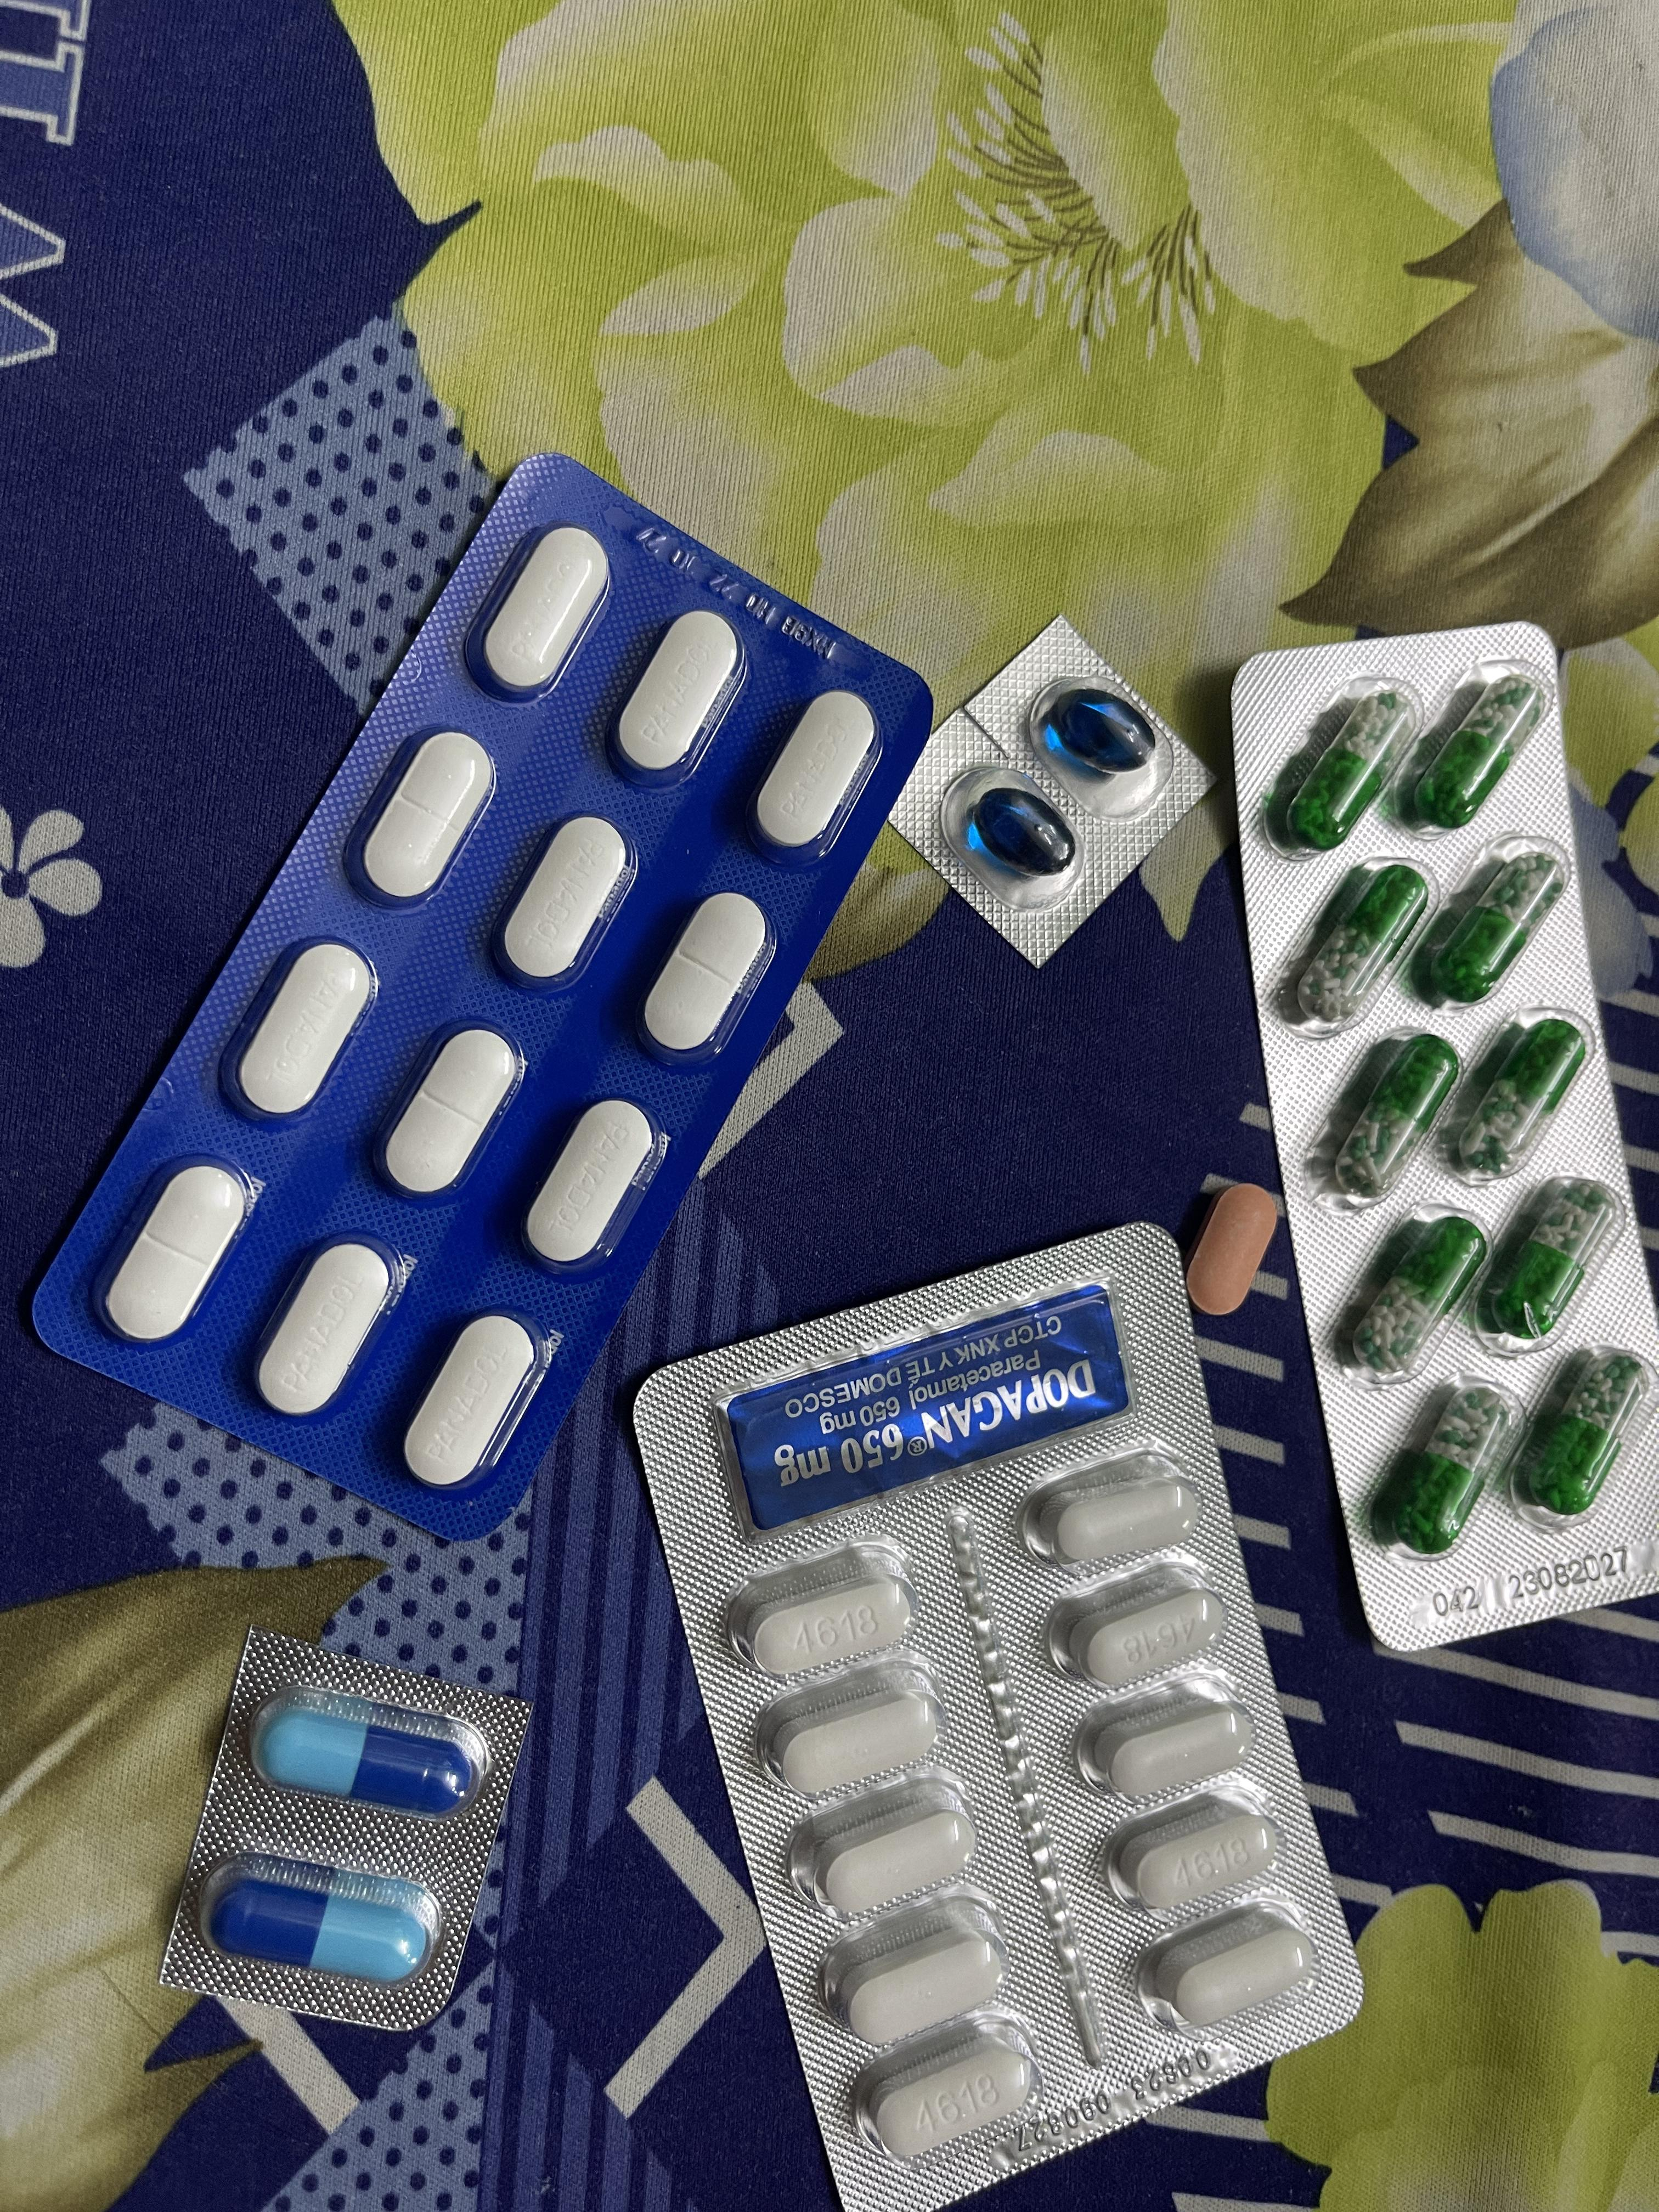Lincomyxin_500mg: (972, 789, 1077, 878), (1047, 688, 1154, 772)
Loratadine_10mg: (1187, 1186, 1274, 1313)
Paracetamol_350mg: (91, 1155, 256, 1346), (221, 937, 380, 1125), (345, 726, 500, 914), (249, 1235, 408, 1416), (373, 1022, 526, 1204), (467, 519, 613, 705), (490, 813, 638, 995), (518, 1096, 664, 1273), (401, 1315, 547, 1489), (608, 606, 749, 786), (636, 890, 775, 1066), (744, 688, 877, 866)
Paracetamol_500mg: (788, 1770, 976, 1914), (758, 1655, 946, 1794), (730, 1541, 911, 1674), (1072, 1669, 1251, 1797), (1105, 1784, 1281, 1911), (1049, 1559, 1227, 1684), (838, 1928, 1000, 2048), (870, 2043, 1030, 2160), (1161, 1919, 1307, 2029), (1051, 1479, 1190, 1562)
Paracetamol_650mg: (1410, 834, 1572, 1019), (1368, 1376, 1516, 1552), (1284, 855, 1431, 1031), (1513, 1345, 1657, 1522), (1474, 1177, 1622, 1346), (1340, 1214, 1485, 1385), (1405, 665, 1546, 833), (1317, 1035, 1455, 1205), (1450, 1017, 1591, 1183), (1284, 683, 1417, 852)
pill: (200, 1855, 450, 1989), (249, 1688, 498, 1822)
